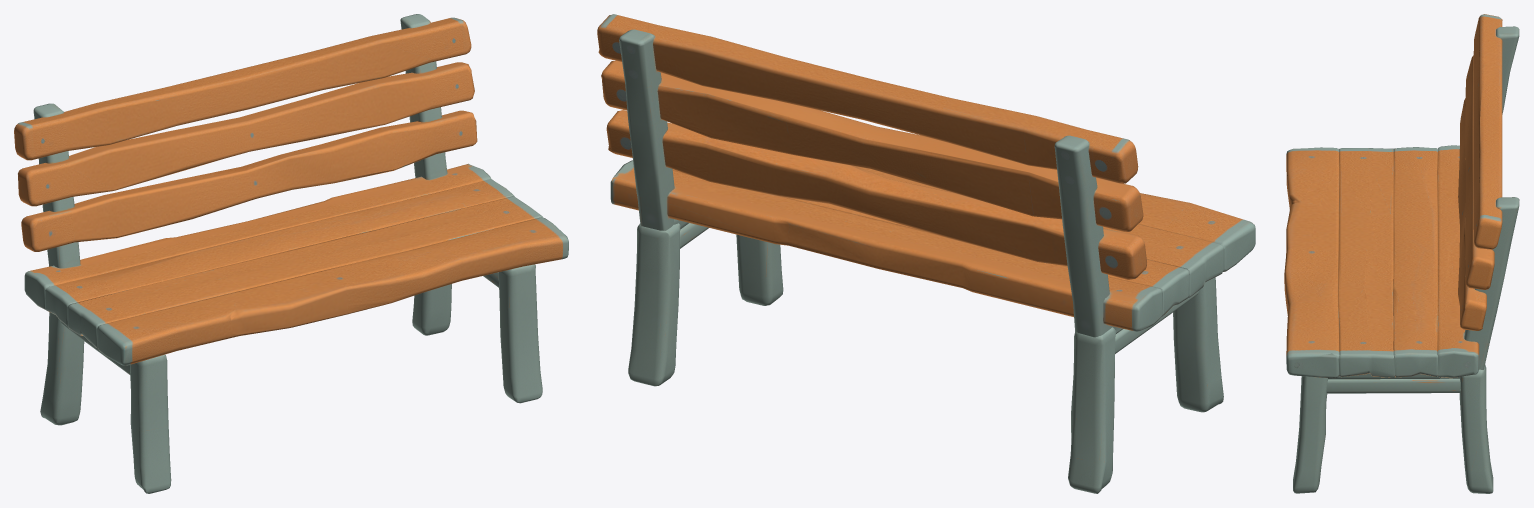
File: stable_bench.glb
3 renders of one model, left to right at view 1: azimuth 30°, elevation 25°; view 2: azimuth 150°, elevation 25°; view 3: azimuth 270°, elevation 25°, orthographic. The views are drawn at different scales.
Parts seen in each view (by area): view 1: stable_bench; view 2: stable_bench; view 3: stable_bench.
Part boxes in pixels (left/top/right/bottom): stable_bench: left=14, top=14, right=568, bottom=493; stable_bench: left=597, top=14, right=1255, bottom=493; stable_bench: left=1284, top=14, right=1519, bottom=493.
Size of the model in its own units: 1.48 by 0.95 by 0.7029.
1 material, 1 textured.
